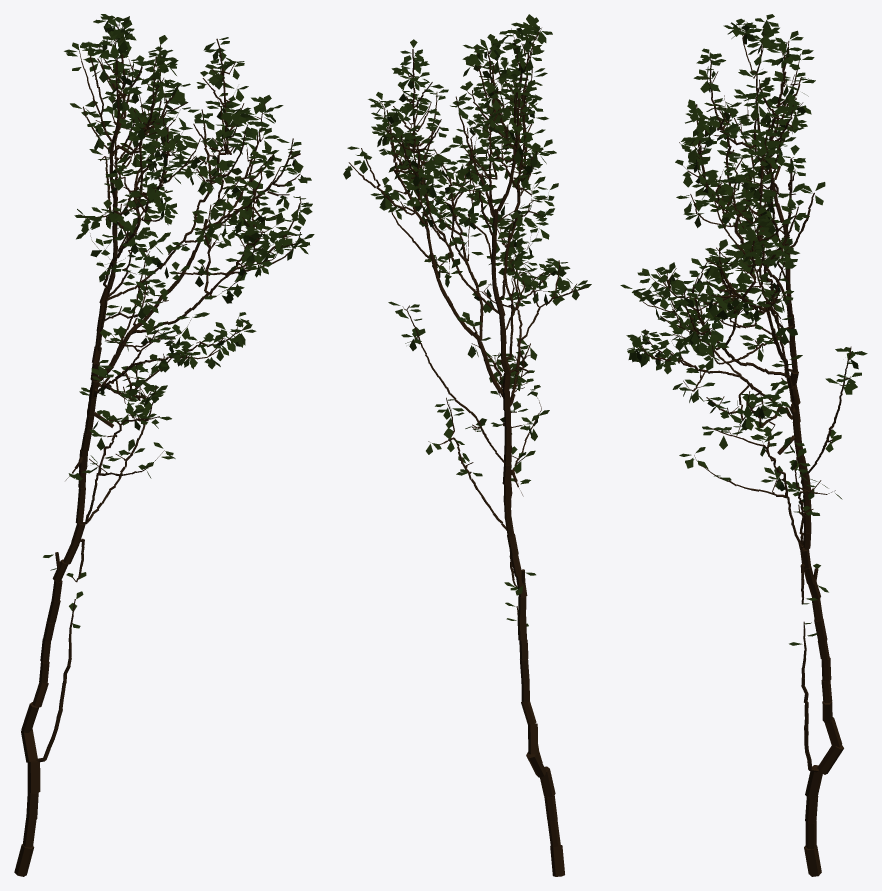
File: tree_304.obj
The picture shows the model from 3 angles, left to right: view 1: azimuth 30°, elevation 25°; view 2: azimuth 150°, elevation 25°; view 3: azimuth 270°, elevation 25°; orthographic projection. The views are drawn at different scales.
Visible parts, largest first — view 1: Leaves, TrunkAndBranches; view 2: Leaves, TrunkAndBranches; view 3: Leaves, TrunkAndBranches.
Boxes of the visible parts, x1,y1,x2,y2 form: Leaves: (43, 14, 314, 628); TrunkAndBranches: (14, 18, 303, 876); Leaves: (343, 14, 591, 626); TrunkAndBranches: (348, 28, 585, 876); Leaves: (620, 14, 867, 645); TrunkAndBranches: (634, 17, 851, 876).
Size of the model in its own units: 5.64 by 18.89 by 4.76.
